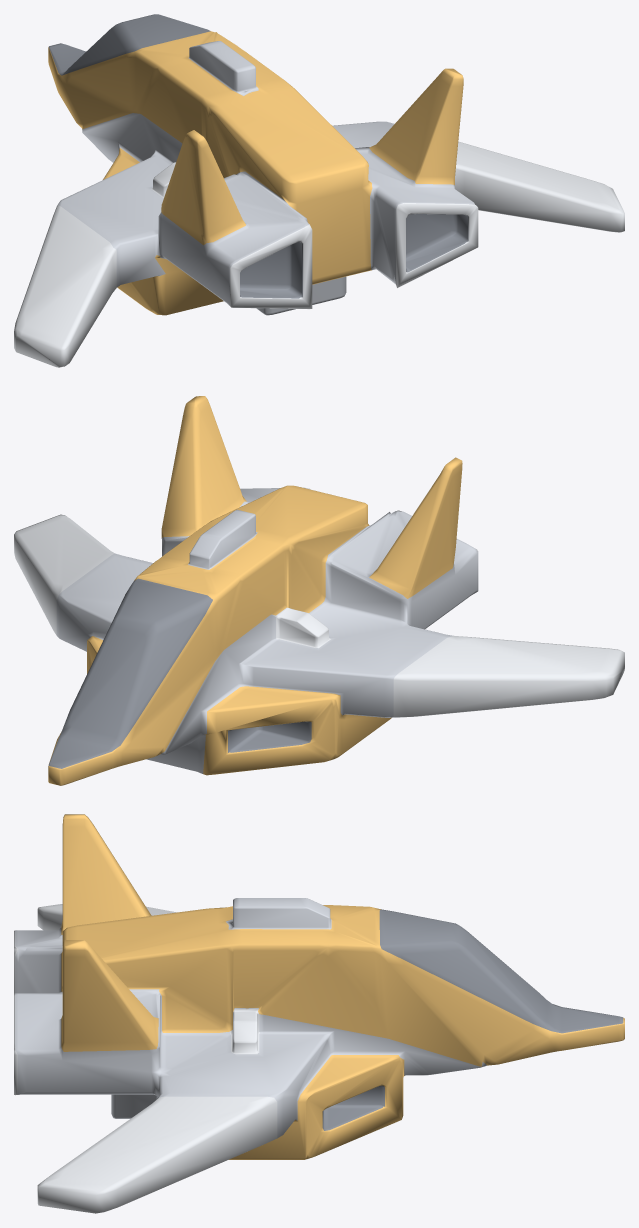
File: scout.glb
3 views of the same model, one above another, from view 1: azimuth 30°, elevation 25°; view 2: azimuth 150°, elevation 25°; view 3: azimuth 270°, elevation 25° (orthographic).
Parts seen in each view (by area): view 1: craft_speederD; view 2: craft_speederD; view 3: craft_speederD.
Part boxes in pixels (x1=…): craft_speederD: x1=14, y1=14, x2=624, y2=367; craft_speederD: x1=14, y1=396, x2=624, y2=785; craft_speederD: x1=14, y1=814, x2=624, y2=1213.
Bounding box in the file's own units: 2.88 × 1.01 × 2.51.
